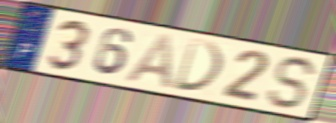2: (220, 49, 273, 105)
3: (44, 18, 91, 73)
6: (93, 27, 133, 78)
A: (122, 32, 175, 92)
D: (171, 36, 227, 95)
S: (264, 55, 322, 112)
